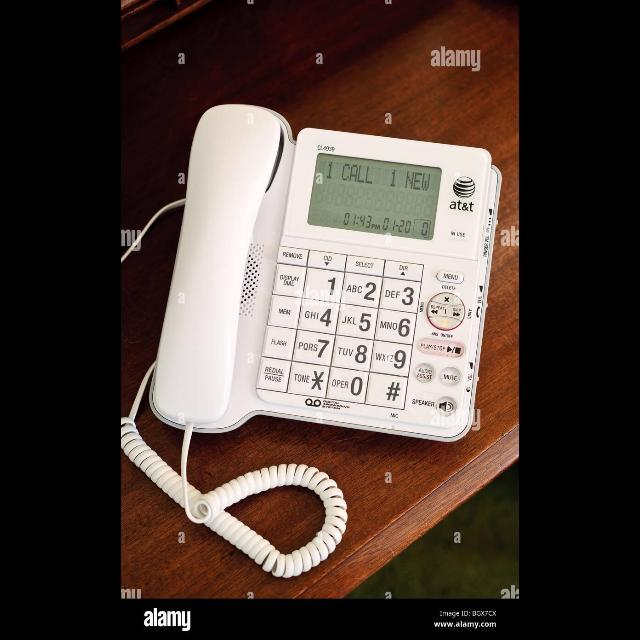Telephone-Set: (146, 100, 496, 450)
